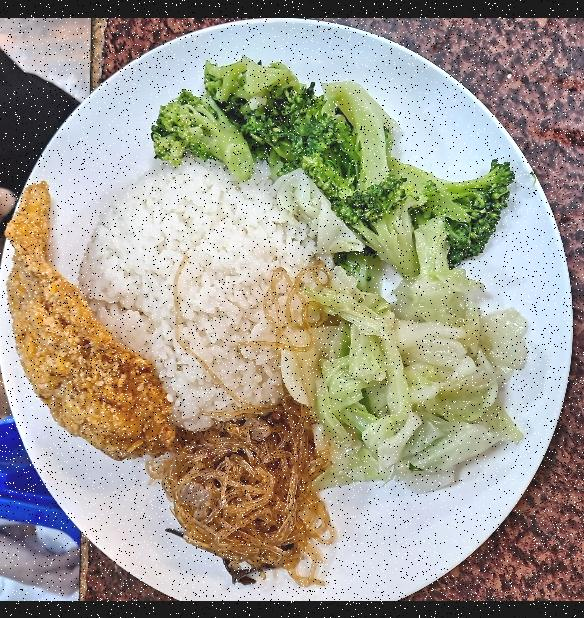chicken steak: (2, 177, 172, 462)
plate: (0, 26, 584, 601)
side dish: (133, 49, 502, 265), (299, 265, 527, 496), (139, 406, 332, 576)
white rice: (69, 159, 318, 434)
